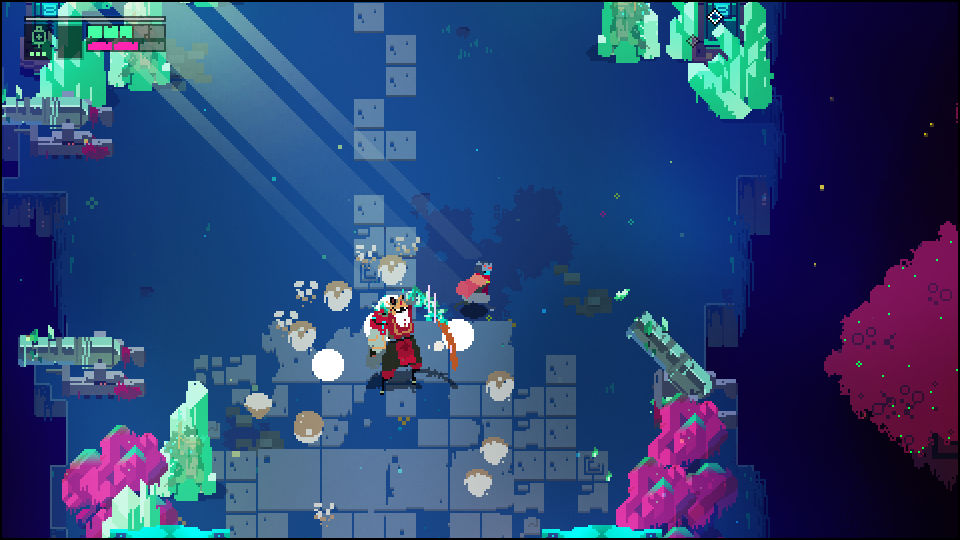hanged_man: (364, 285, 456, 390)
player: (456, 257, 494, 311)
